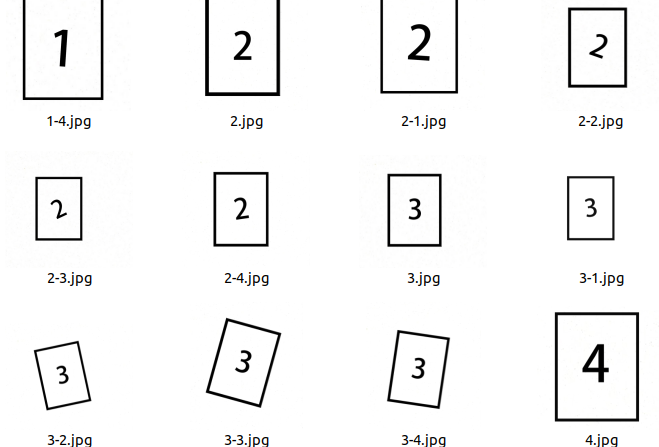four: (568, 334, 626, 404)
one: (42, 20, 85, 77)
three: (396, 188, 433, 236), (404, 350, 433, 388), (230, 342, 254, 383), (576, 194, 605, 224), (51, 360, 75, 392)
two: (401, 8, 440, 73), (226, 16, 263, 76), (581, 23, 615, 72), (229, 183, 260, 233), (44, 190, 71, 226)
